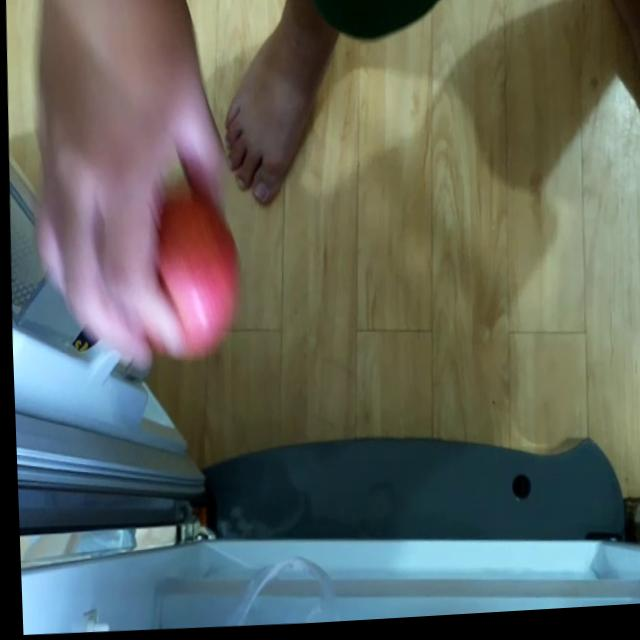apple: (148, 192, 242, 361)
